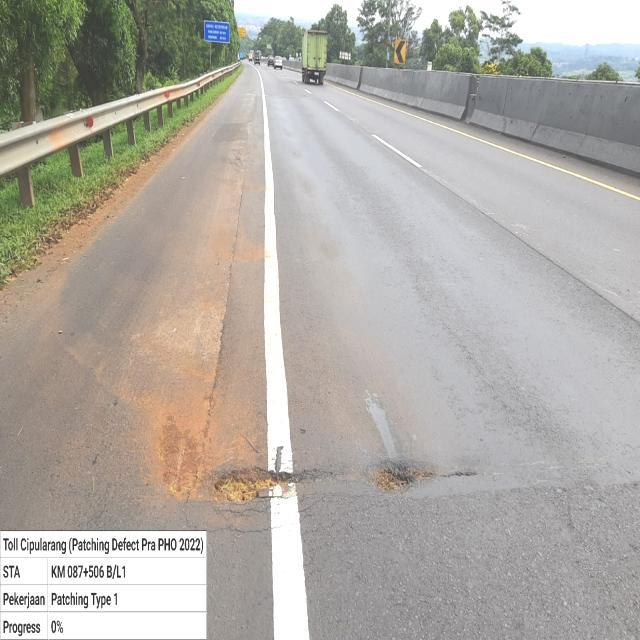Buraco: (362, 458, 482, 498), (210, 464, 308, 508)
